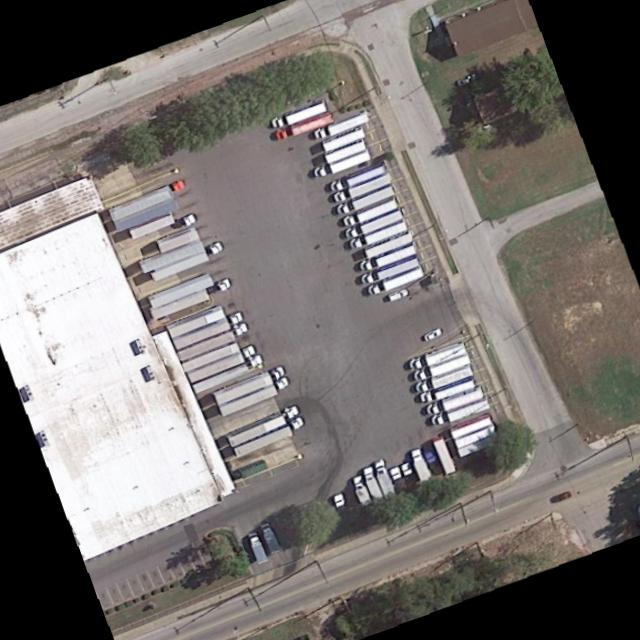large-vehicle: (150, 279, 233, 320), (110, 181, 188, 222), (225, 405, 301, 447), (190, 355, 264, 395), (233, 419, 307, 458), (213, 365, 285, 405), (151, 244, 225, 282), (171, 312, 243, 351), (218, 379, 291, 417), (187, 345, 259, 383), (178, 324, 251, 361), (414, 363, 475, 396), (274, 110, 336, 142), (429, 398, 490, 429), (411, 352, 471, 383), (365, 266, 427, 296), (330, 174, 392, 204), (344, 209, 404, 239), (408, 341, 467, 371), (270, 101, 328, 131), (360, 257, 419, 286), (357, 244, 416, 273), (349, 221, 408, 250), (313, 150, 372, 179), (337, 187, 395, 215), (421, 377, 476, 406), (342, 200, 398, 228), (427, 388, 484, 415), (330, 165, 386, 192), (314, 114, 369, 139), (365, 233, 413, 260), (324, 140, 366, 164), (323, 128, 365, 152), (361, 466, 383, 505), (374, 461, 394, 500), (246, 532, 269, 564), (410, 448, 431, 482), (259, 522, 280, 555), (352, 475, 372, 509)
small-vehicle: (330, 493, 349, 516), (386, 286, 410, 304), (549, 490, 572, 506), (422, 327, 443, 344), (456, 74, 476, 89)
